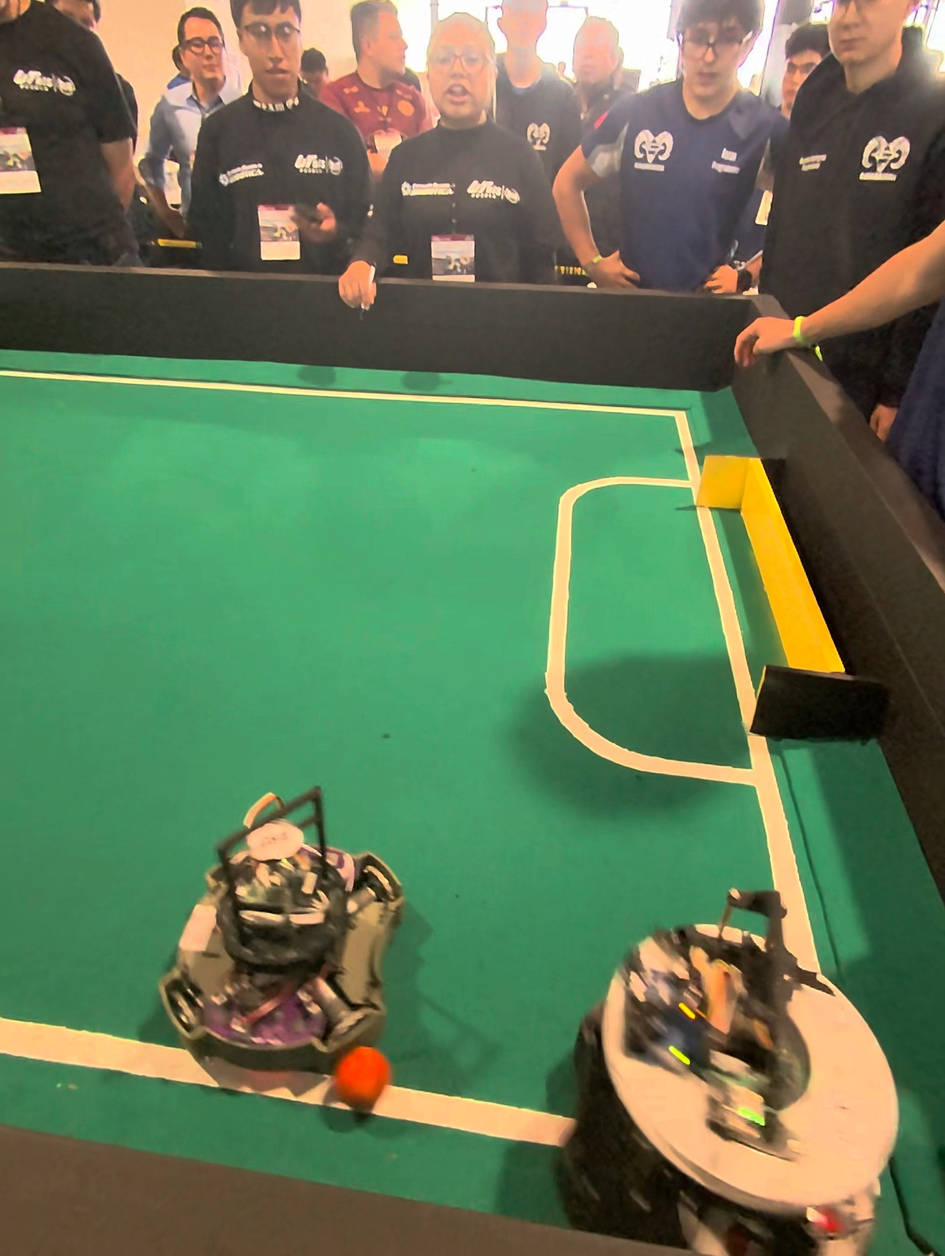Robot: (577, 862, 944, 1256), (162, 776, 424, 1113)
pelota: (325, 1032, 422, 1130)
